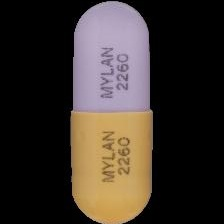51079-936: (0, 0, 224, 224)
